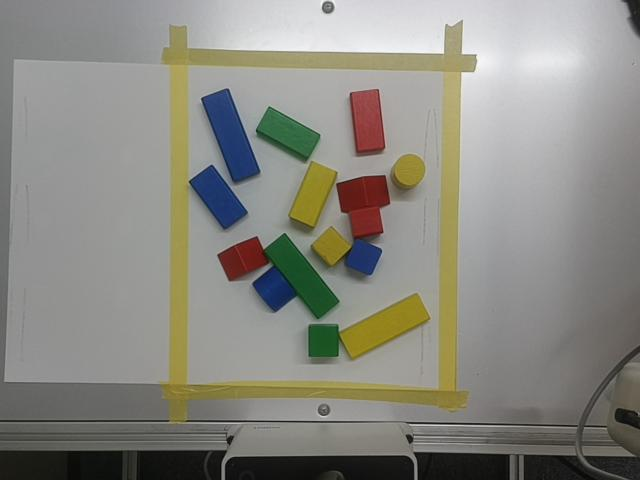blue_cube: (346, 239, 381, 275)
blue_longrect: (201, 89, 259, 181)
blue_rect: (189, 165, 247, 228)
cylinder: (391, 154, 424, 189)
green_cube: (308, 324, 339, 357)
green_longrect: (264, 234, 338, 318)
green_rect: (256, 107, 320, 160)
half_cylinder: (253, 266, 296, 311)
red_cube: (349, 207, 382, 238)
red_rect: (350, 89, 385, 154)
triangle: (218, 237, 267, 280), (338, 175, 388, 212)
yellow_cube: (311, 227, 350, 266)
yellow_longrect: (340, 294, 429, 358)
yelow_rect: (289, 162, 337, 228)
